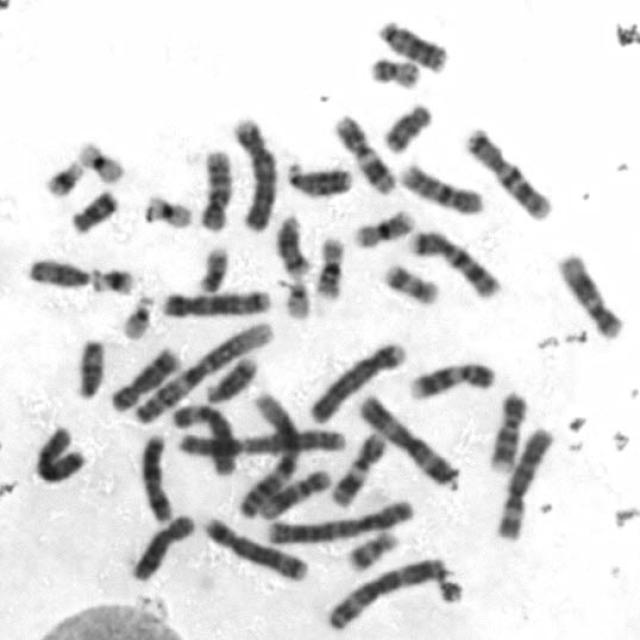A1: (127, 318, 277, 426), (238, 389, 302, 521)
A2: (260, 495, 418, 544), (170, 424, 349, 457)
A3: (354, 389, 460, 491), (320, 553, 452, 634)
B4: (303, 337, 408, 424), (227, 111, 280, 234)
B5: (200, 513, 309, 582), (158, 285, 272, 319)
C10: (394, 159, 485, 217), (195, 144, 234, 233)
C11: (330, 110, 398, 198), (326, 428, 388, 509)
C12: (553, 248, 625, 342), (255, 465, 333, 520)
C6: (490, 423, 554, 542), (169, 398, 238, 478)
C7: (460, 122, 554, 222), (406, 226, 502, 300)
C8: (107, 342, 182, 414), (128, 510, 196, 583)
C9: (404, 358, 498, 402), (486, 387, 530, 474)
D13: (372, 16, 448, 75), (282, 156, 353, 199)
D14: (201, 351, 261, 405), (271, 210, 312, 278)
D15: (24, 254, 100, 290), (72, 336, 110, 401)
E16: (348, 206, 416, 249), (310, 233, 348, 302)
E17: (378, 258, 440, 307), (341, 525, 401, 573)
E18: (377, 99, 434, 154), (67, 186, 120, 235)
F19: (73, 137, 126, 185), (139, 189, 194, 232)
F20: (366, 52, 424, 90), (195, 244, 230, 293)
G21: (40, 156, 87, 199), (88, 263, 139, 297)
G22: (118, 290, 156, 340), (281, 274, 313, 320)
X: (32, 422, 92, 490), (136, 430, 174, 524)
